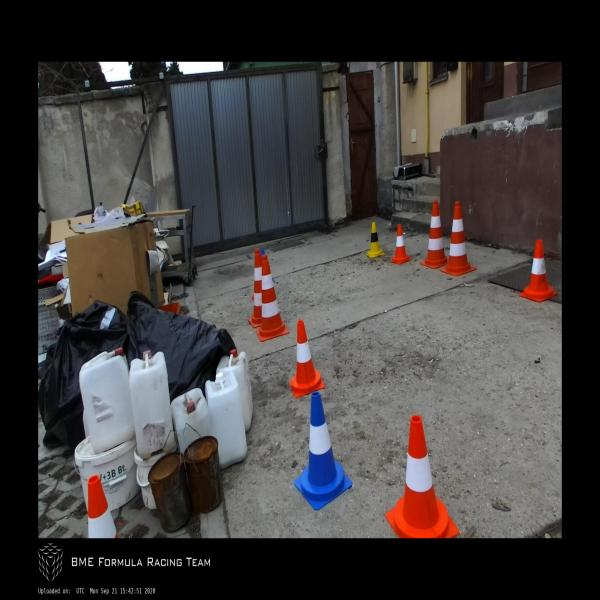blue_cone: (294, 391, 353, 511)
large_orange_cone: (256, 254, 290, 341), (440, 201, 477, 277), (420, 200, 448, 269), (248, 247, 262, 328)
orange_cone: (385, 414, 460, 538), (289, 319, 325, 397), (519, 240, 557, 302), (87, 474, 119, 538), (391, 224, 411, 265)
yellow_cone: (366, 222, 384, 258)
